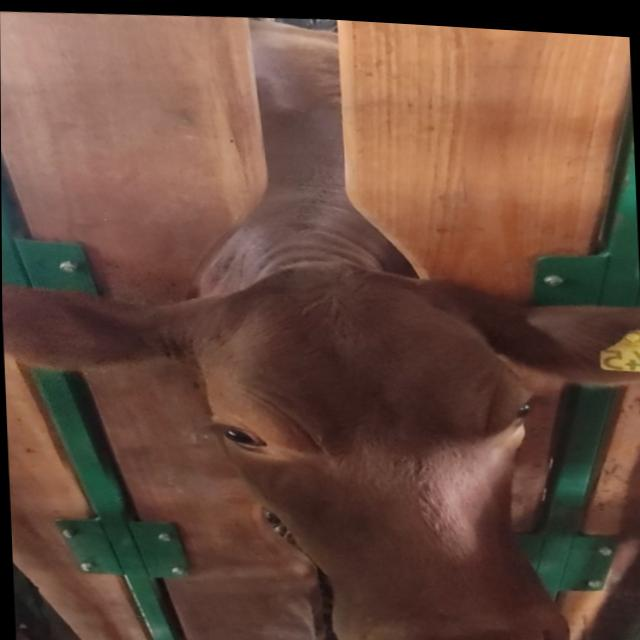cowFace: (199, 256, 542, 640)
